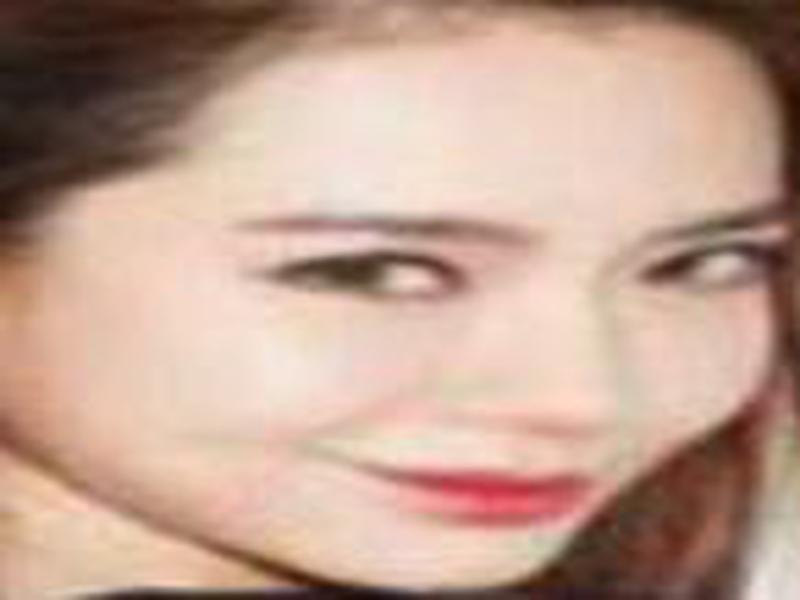without_mask: (4, 94, 784, 592)
